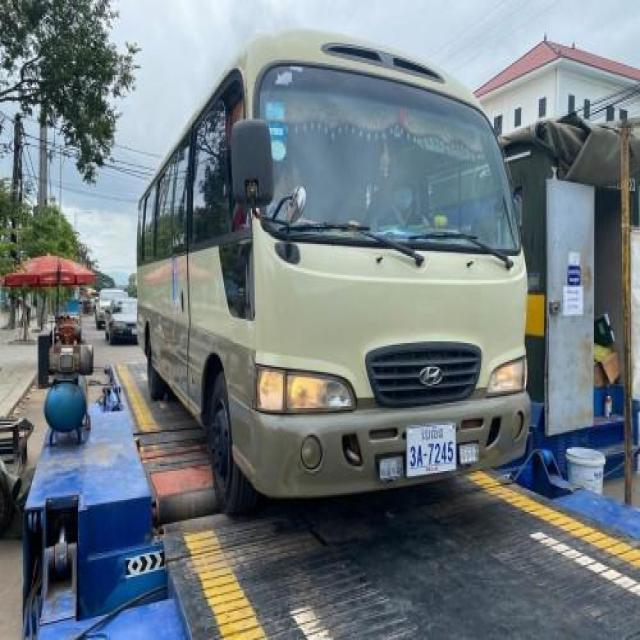Pailin: (421, 427, 444, 442)
